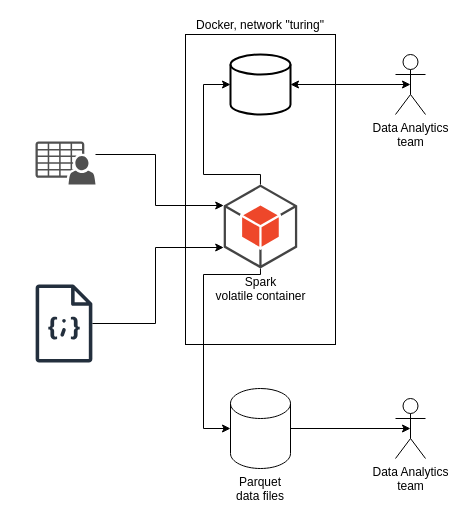
The diagram is 465 pixels wide and 521 high, and some of its shapes have lost their labels. The centre of each missing label's shape, as x and y in pixels:
"Input CSV dataset" goes at (65,162).
"PostgreSQL persistent container" goes at (260,84).
"PySpark pipeline definition" goes at (63,323).
